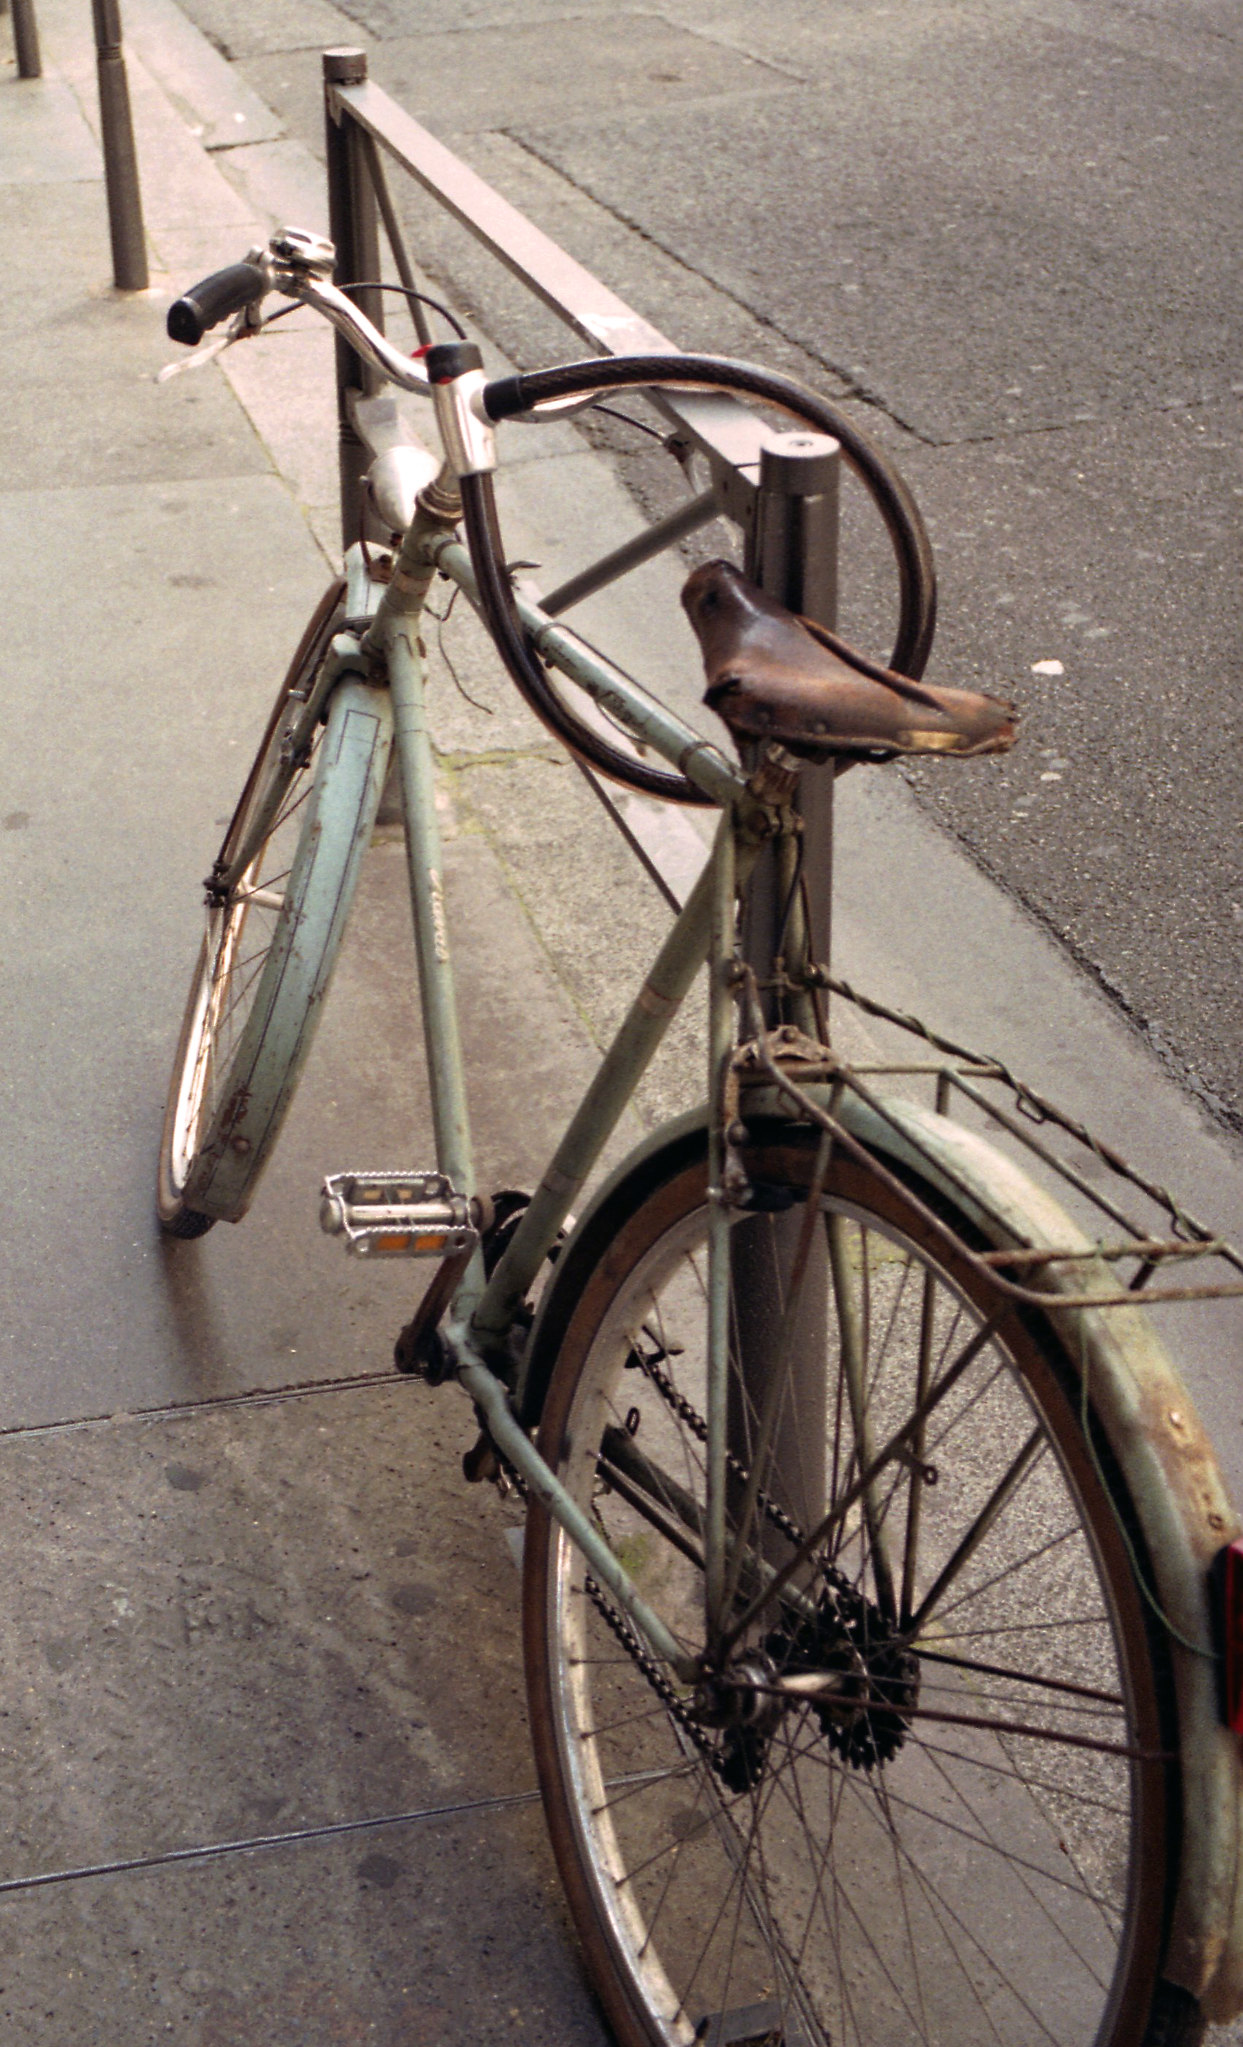bicycle: (129, 211, 1243, 2035)
